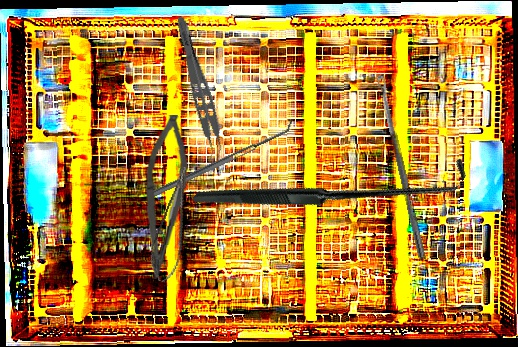Hook Surgical: (191, 43, 473, 325)
Micro Scissor: (140, 114, 192, 280), (141, 164, 209, 286)
Spatula Surgical: (148, 119, 298, 197)
Surgical Spoon: (376, 75, 428, 261)
Tissue Forceps: (163, 14, 231, 164)
